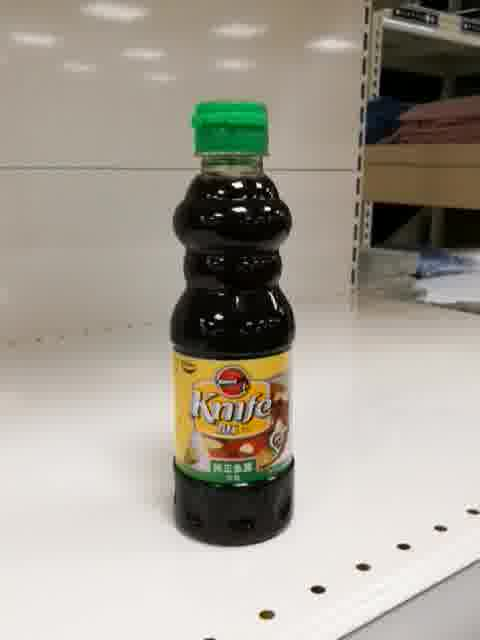cookingoil: (166, 98, 295, 550)
